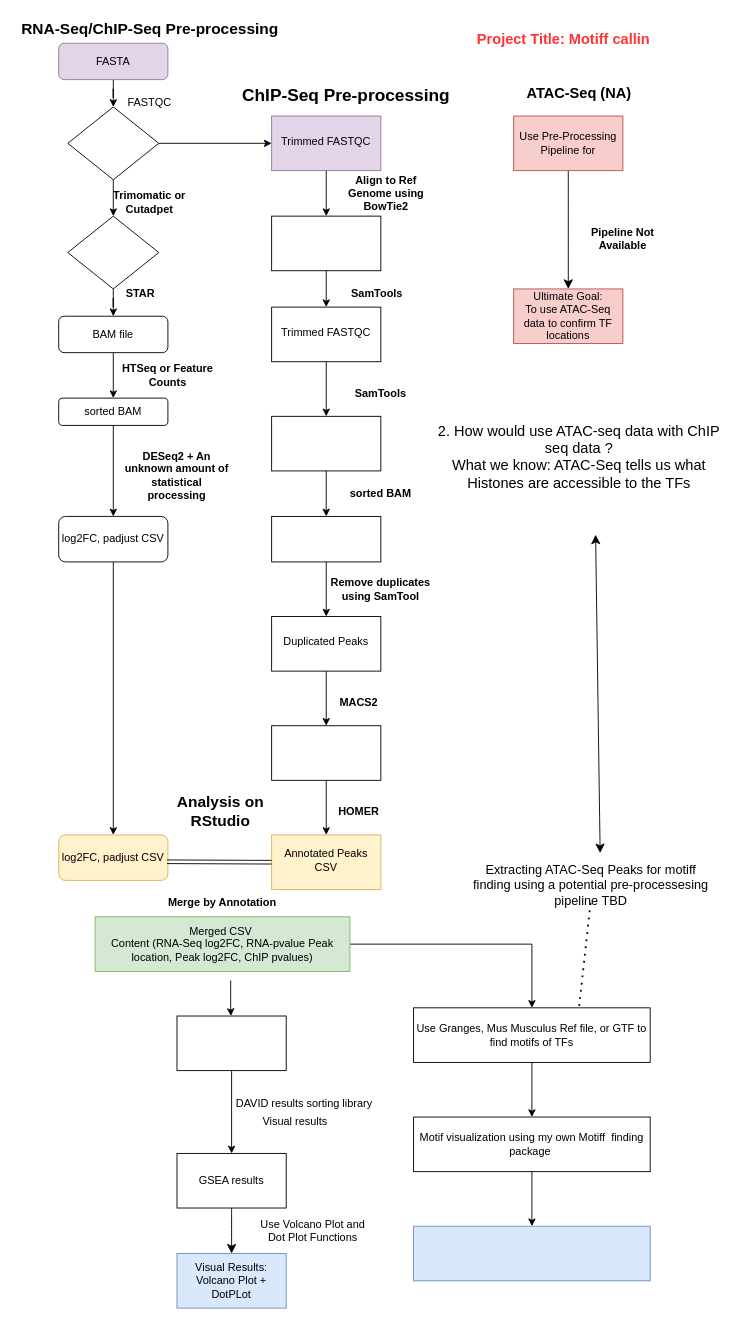
This 739x1324 diagram has some shape labels left out. The shapes that lost their labels are listed below. From the top down, each one's centre as x and y in pixels, then its label:
At [113,143]: "FASTQC file".
At [113,252]: "Paired Fwd Paired Rev".
At [326,243]: "SAM File".
At [326,443]: "BAM".
At [326,539]: "sortedBAM".
At [326,752]: "narrowPeak, broadPeak".
At [231,1043]: "DAVID ClusterEnrich".
At [531,1253]: "Final Table: TF, Motif".
